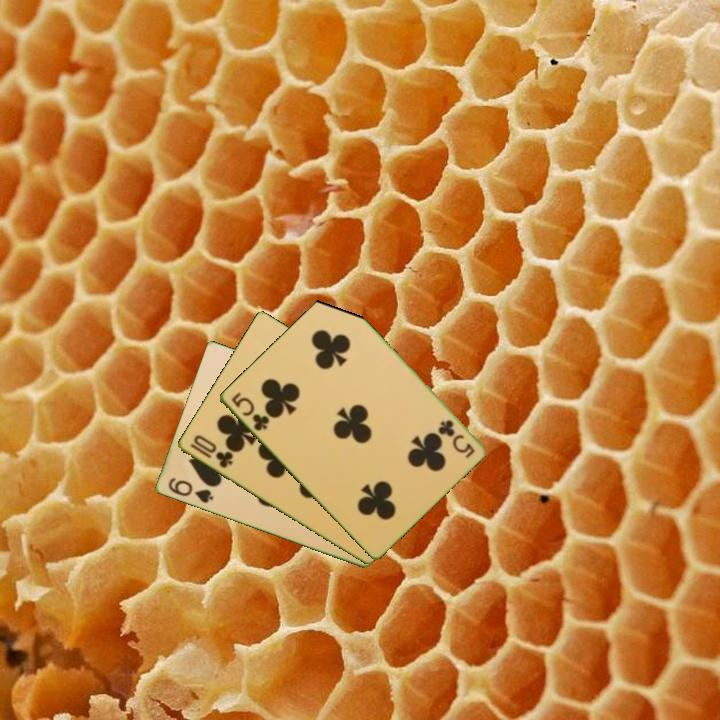10c: (186, 431, 236, 471)
5c: (227, 388, 272, 434), (435, 416, 477, 461)
6s: (164, 474, 216, 506)
